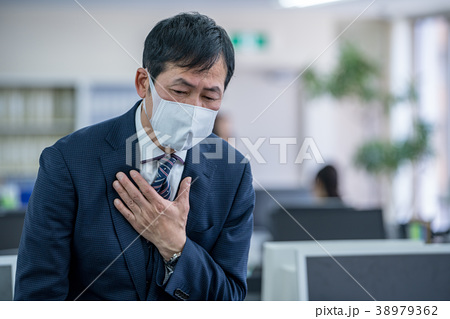mask: (148, 100, 224, 156)
